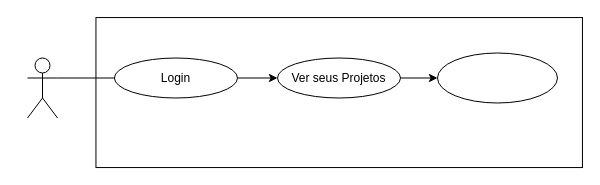
Image size: 600x185. Some labels were removed from this diagram. Here are the shapes that lost their labels. From the top down, the centre of each, then its label:
At pixel 42 87: "Professor".
At pixel 497 77: "Volta // Tela inicial".
